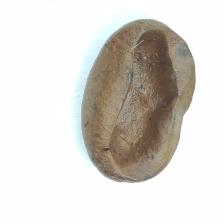NG: (108, 26, 182, 181)
